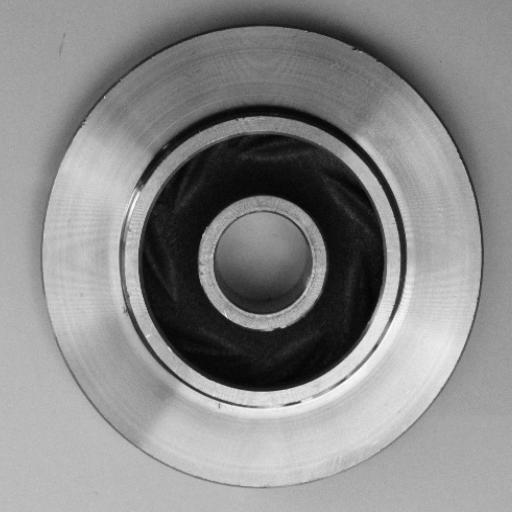scratch: (115, 175, 145, 269)
unpolished_casting: (42, 21, 483, 488)
